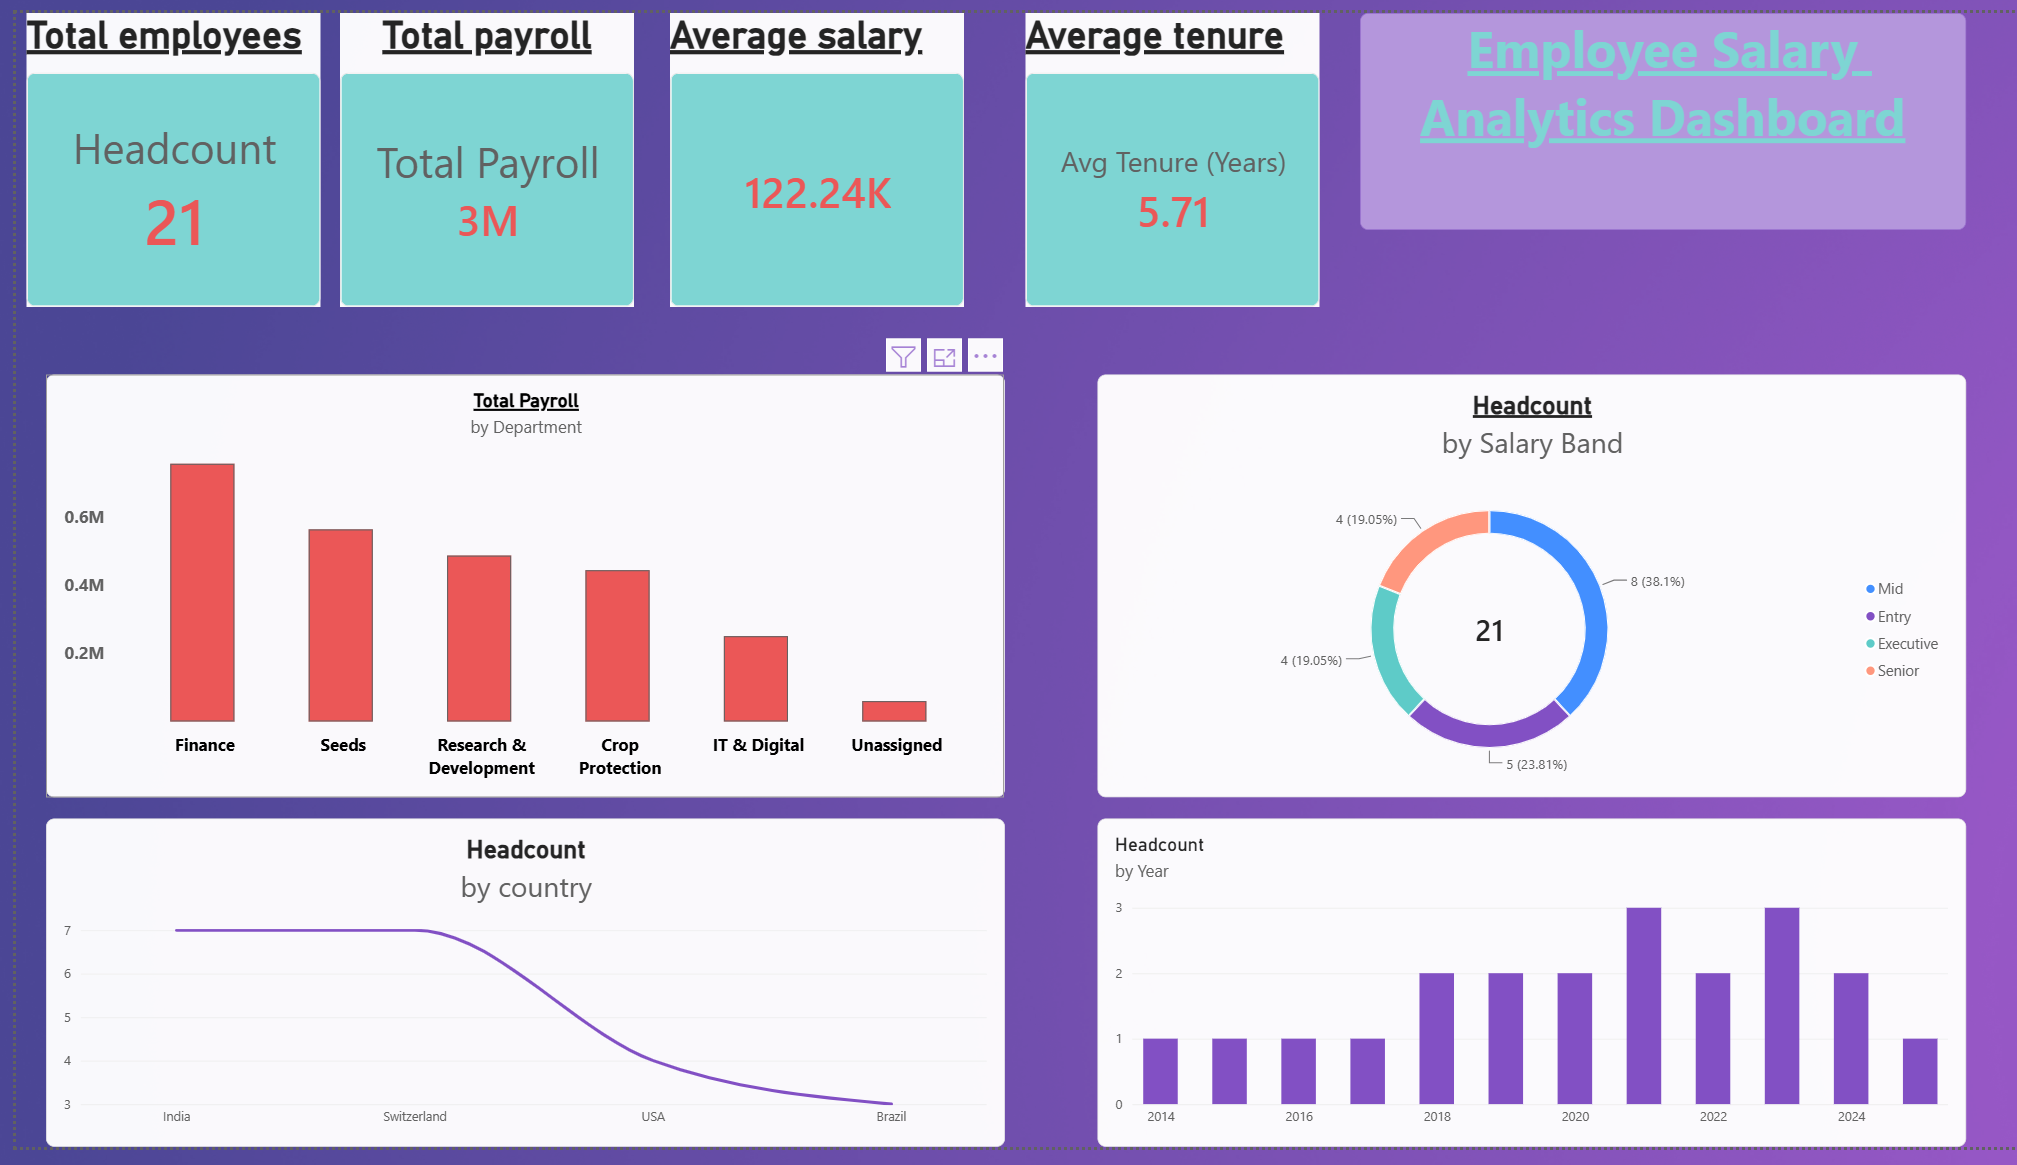

The dashboard page shown, as its layout file describes it:
{"tool":"powerbi","page":{"name":"Page 1","canvas":[1920,1080],"ordinal":0},"visuals":[{"type":"cardVisual","title":"Total employees ","fields":{"Data":["_Measures.Headcount"]},"box":[10,0,280,280],"z":0},{"type":"cardVisual","title":"Total payroll","fields":{"Data":["_Measures.Total Payroll"]},"box":[308.1,0,280,280],"z":1},{"type":"cardVisual","title":"Average salary","fields":{"Data":["_Measures.Avg Salary"]},"box":[622.5,0,280,280],"z":2},{"type":"cardVisual","title":"Average tenure","fields":{"Data":["_Measures.Avg Tenure (Years)"]},"box":[960.7,0,280,280],"z":3},{"type":"clusteredColumnChart","fields":{"Category":["employees.Department"],"Y":["_Measures.Total Payroll"]},"box":[28,344.7,913.3,402.8],"z":5},{"type":"donutChart","fields":{"Category":["employees.Salary Band"],"Y":["_Measures.Headcount"]},"box":[1029.7,344.7,827.2,402.8],"z":6},{"type":"lineChart","fields":{"Category":["locations.country"],"Y":["_Measures.Headcount"]},"box":[28,766.9,913.3,312.3],"z":7},{"type":"columnChart","fields":{"Category":["employees.hire_date.Variation.Date Hierarchy.Year","employees.hire_date.Variation.Date Hierarchy.Quarter","employees.hire_date.Variation.Date Hierarchy.Month","employees.hire_date.Variation.Date Hierarchy.Day"],"Y":["_Measures.Headcount"]},"box":[1029.7,766.9,827.2,312.3],"z":8},{"type":"textbox","box":[1279.5,0,577.3,206.8],"z":9}]}

Visuals, with their boxes in screenshot pixels (x1, y1, x2, y2), scaled from the page's 1920x1080 canvas onto the 2017x1165 screenshot:
"Total employees " cardVisual: box(11, 0, 305, 302)
"Total payroll" cardVisual: box(324, 0, 618, 302)
"Average salary" cardVisual: box(654, 0, 948, 302)
"Average tenure" cardVisual: box(1009, 0, 1303, 302)
clusteredColumnChart - employees.Department x _Measures.Total Payroll: box(29, 372, 989, 806)
donutChart - employees.Salary Band x _Measures.Headcount: box(1082, 372, 1951, 806)
lineChart - locations.country x _Measures.Headcount: box(29, 827, 989, 1164)
columnChart - employees.hire_date.Variation.Date Hierarchy.Year x employees.hire_date.Variation.Date Hierarchy.Quarter: box(1082, 827, 1951, 1164)
textbox: box(1344, 0, 1951, 223)
